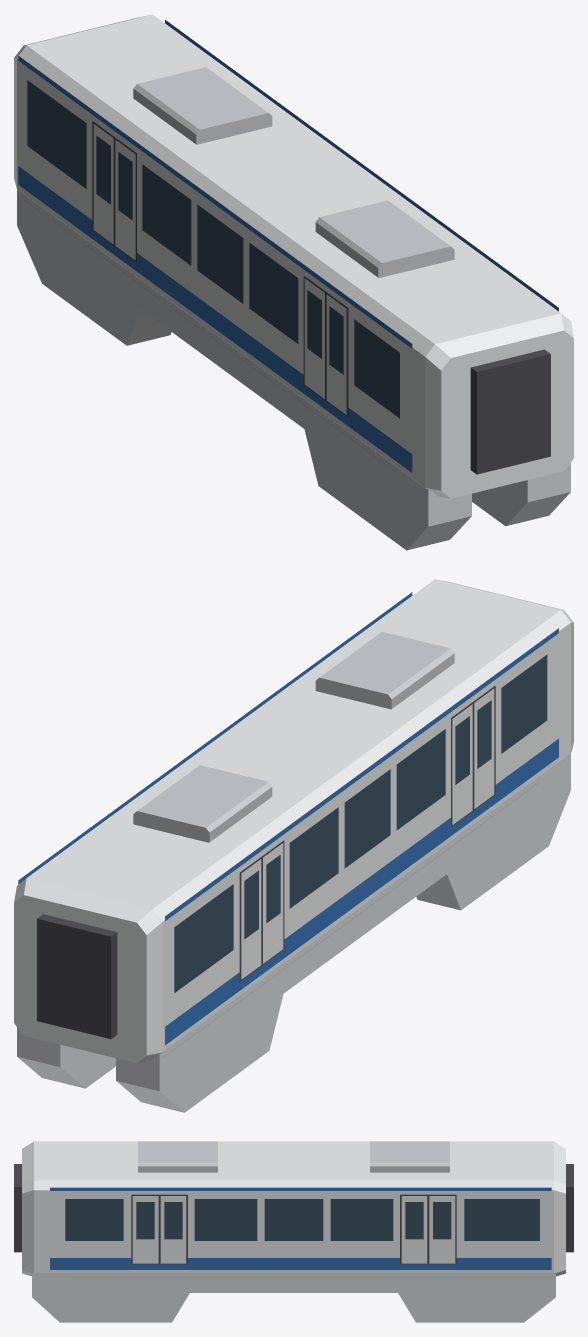
3 renders of one model, top to bottom at view 1: azimuth 30°, elevation 25°; view 2: azimuth 150°, elevation 25°; view 3: azimuth 270°, elevation 25°, orthographic. The views are drawn at different scales.
Parts seen in each view (by area): view 1: 309; view 2: 309; view 3: 309.
Part boxes in pixels (box(x1,y1,x2,y2)): 309: box(14, 14, 573, 550); 309: box(14, 579, 573, 1112); 309: box(14, 1141, 573, 1322).
Size of the model in its own units: 2.72 by 4.1 by 14.
